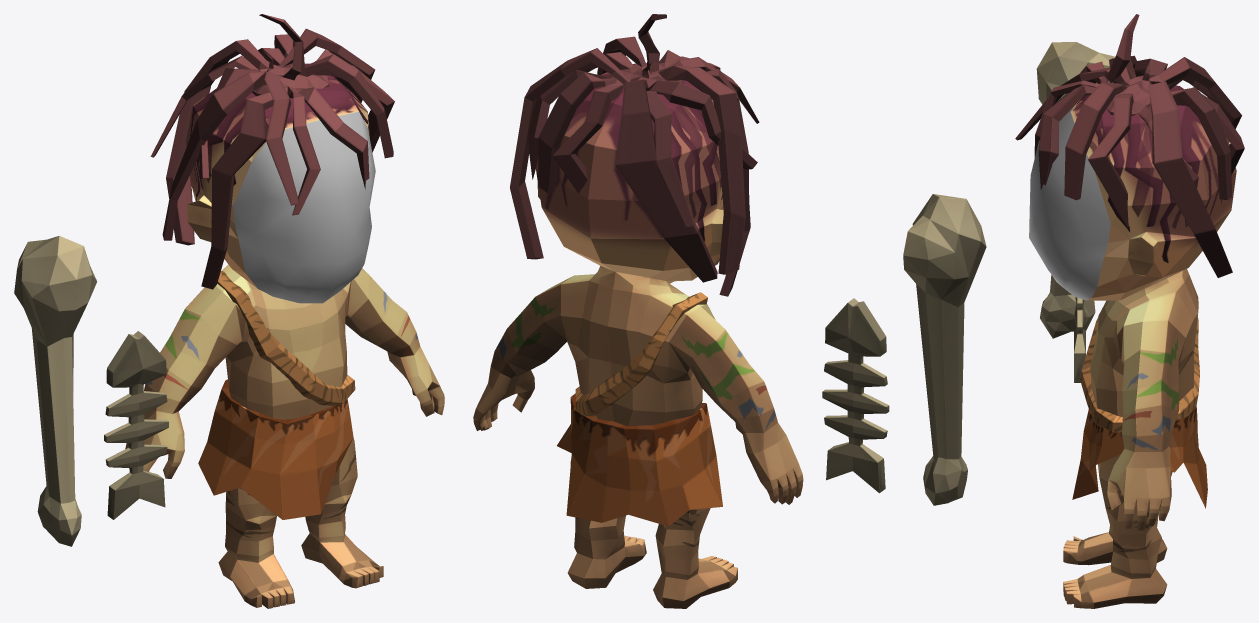
Rendered from primitive_baby_mod 1.fbx.
3 renders of one model, left to right at view 1: azimuth 30°, elevation 25°; view 2: azimuth 150°, elevation 25°; view 3: azimuth 270°, elevation 25°, orthographic. The views are drawn at different scales.
Visible parts, largest first — view 1: primitive_baby_body, face_privitive_baby, pCube7, pCube8; view 2: primitive_baby_body, pCube7, pCube8; view 3: primitive_baby_body, face_privitive_baby, pCube7, pCube8.
Boxes of the visible parts, x1=… form: primitive_baby_body: x1=125, y1=14, x2=444, y2=608; face_privitive_baby: x1=233, y1=112, x2=375, y2=303; pCube7: x1=14, y1=236, x2=97, y2=546; pCube8: x1=104, y1=331, x2=168, y2=519; primitive_baby_body: x1=473, y1=14, x2=803, y2=608; pCube7: x1=903, y1=194, x2=986, y2=505; pCube8: x1=822, y1=298, x2=889, y2=493; primitive_baby_body: x1=1015, y1=14, x2=1244, y2=608; face_privitive_baby: x1=1029, y1=107, x2=1110, y2=300; pCube7: x1=1036, y1=42, x2=1115, y2=338; pCube8: x1=1074, y1=297, x2=1085, y2=382.
Bounding box in the file's own units: 3.87 × 4.63 × 1.75.
